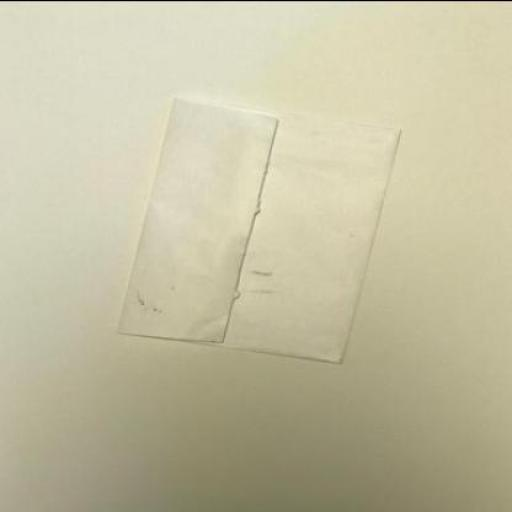paper: (118, 94, 404, 363)
